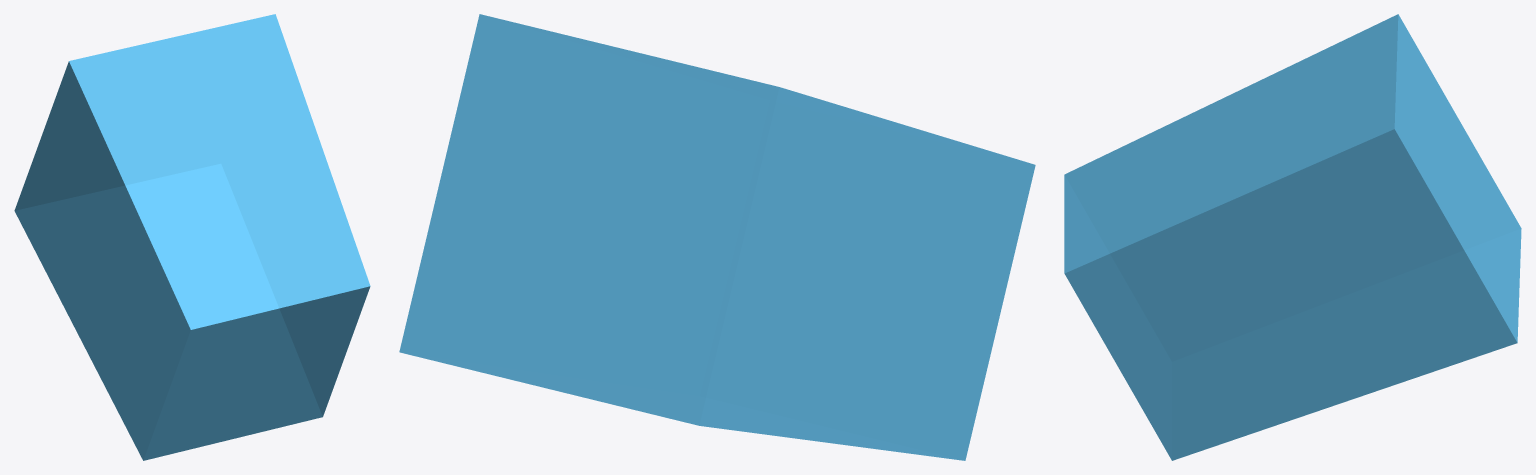
Rendered from Event_421364160_HBrechit_27.fbx.
3 renders of one model, left to right at view 1: azimuth 30°, elevation 25°; view 2: azimuth 150°, elevation 25°; view 3: azimuth 270°, elevation 25°, orthographic. The views are drawn at different scales.
Parts seen in each view (by area): view 1: Model; view 2: Model; view 3: Model.
Boxes of the visible parts, x1,y1,x2,y2 form: Model: (14,14,370,460); Model: (399,14,1035,460); Model: (1064,14,1521,460).
Bounding box in the file's own units: 0.519 × 0.6885 × 0.7877.
